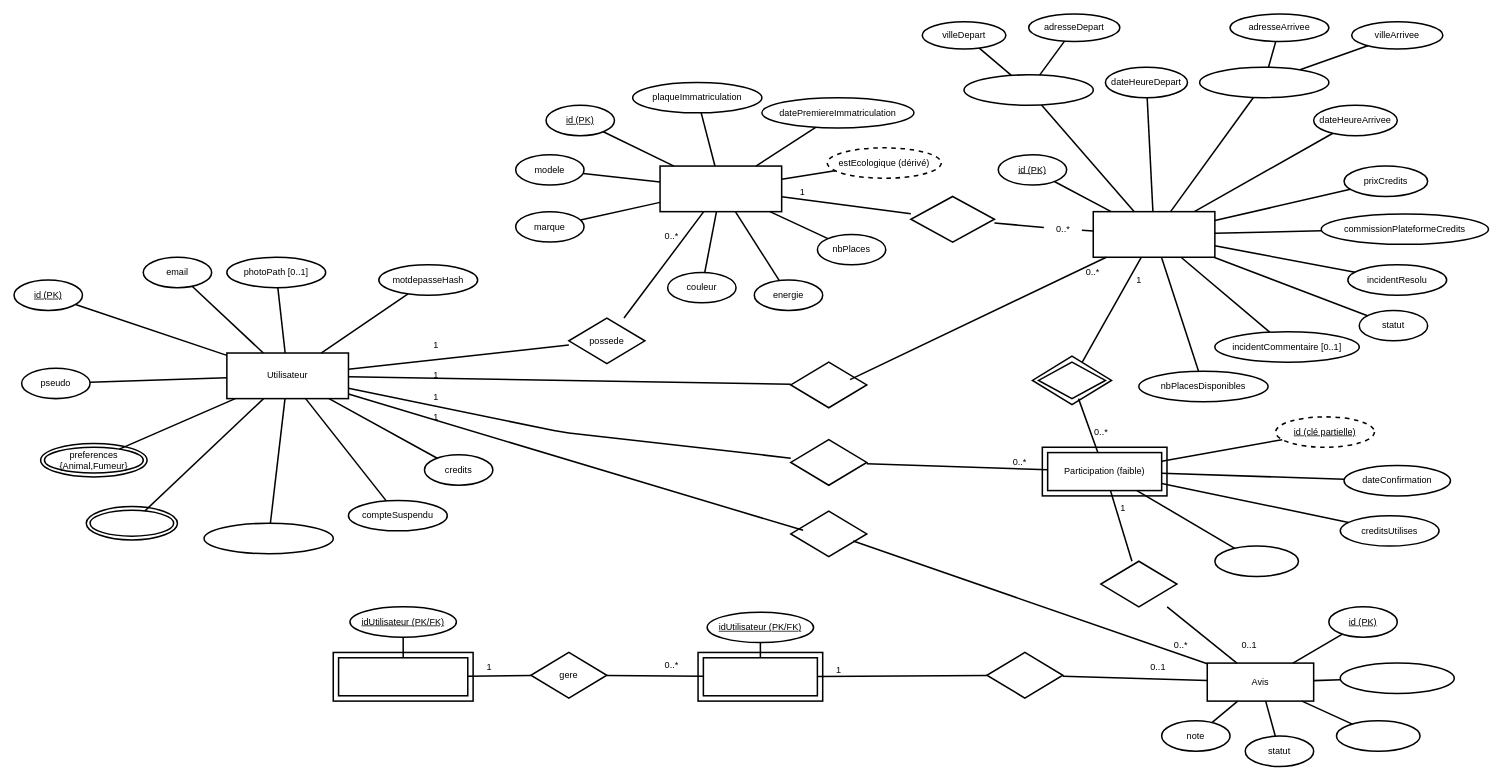
The diagram is 1502 pixels wide and 780 high, and some of its shapes have lost their labels. Each missing label, with the centre of its shape:
Administrateur (faible): point 402,676
commentaire [0..1]: point 1397,678
contient (identif.): point 1071,380
Covoiturage: point 1153,234
dateDepot: point 1377,736
effectue: point 828,462
Employe (faible): point 760,676
estAnnulee: point 1256,561
estUtiliseePour: point 952,218
LieuArrivee (composite): point 1264,82
LieuDepart (composite): point 1028,90
modere: point 1024,674
permet: point 1138,583
preferencesLibres [0..1]: point 268,538
publie: point 828,384
redige: point 828,533
roles {Chauffeur, Passager}: point 131,523
Voiture: point 720,188
